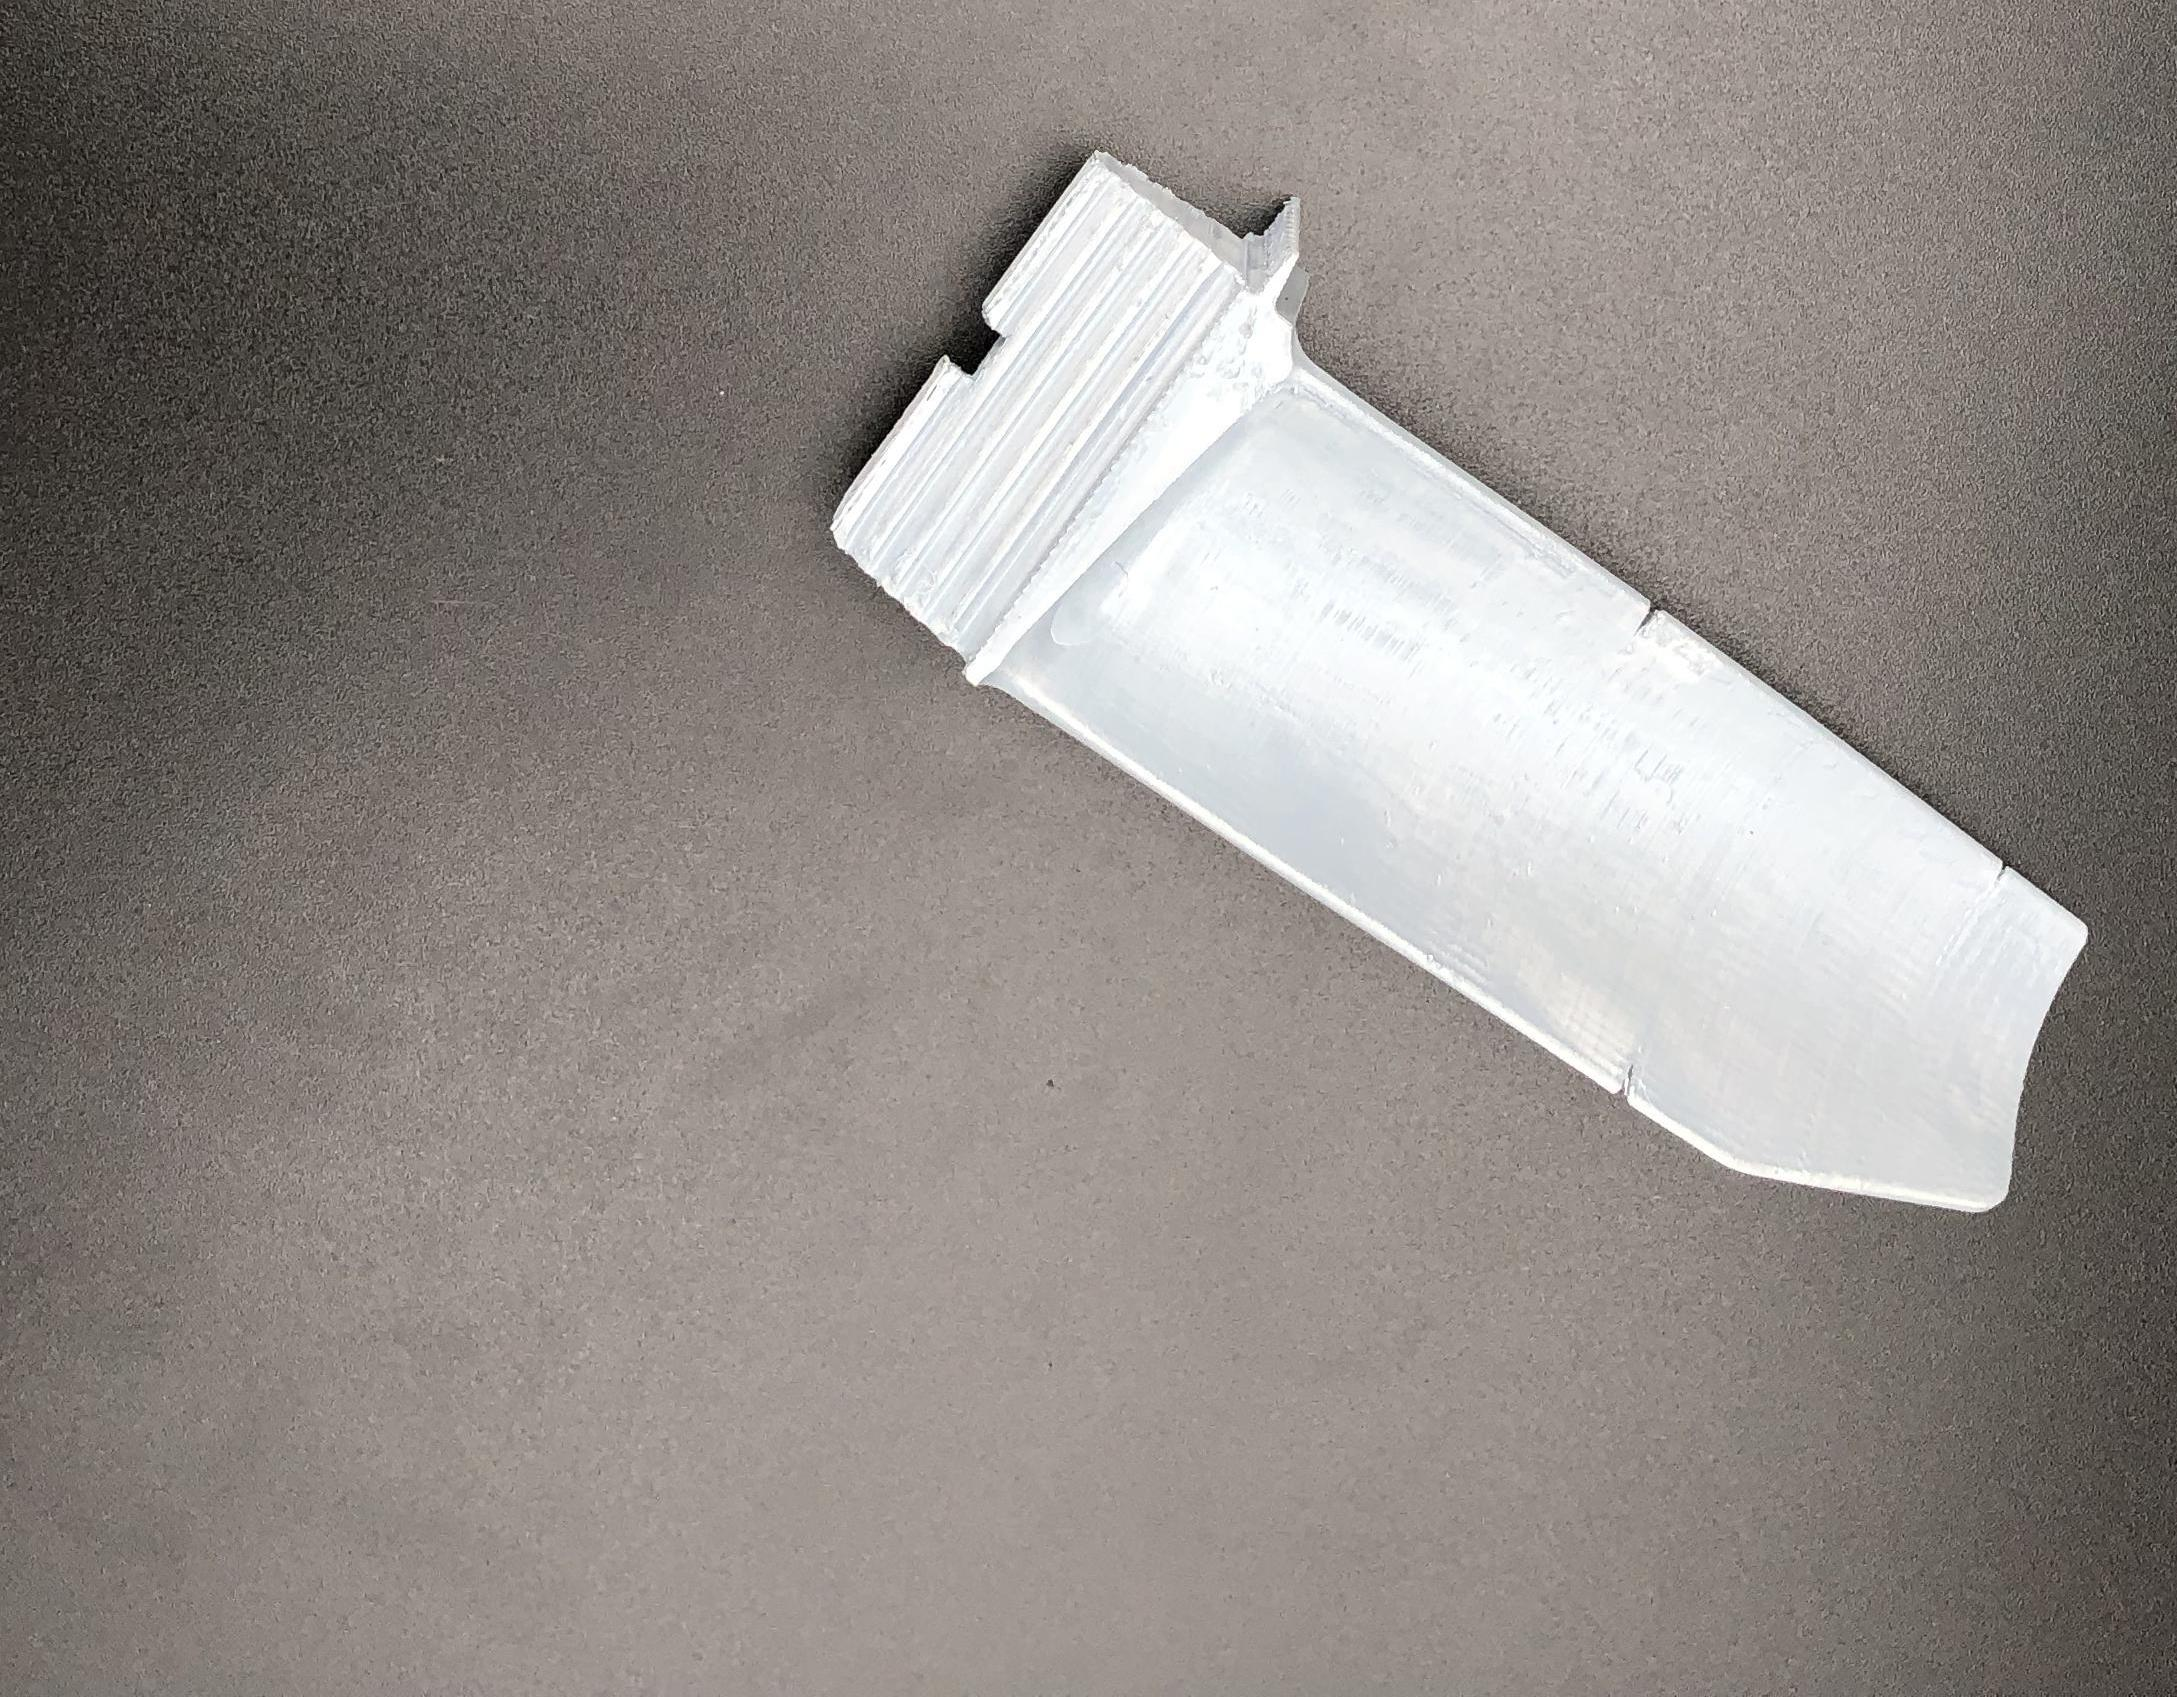groove: (1601, 1048, 1656, 1110), (1629, 592, 1684, 649), (1984, 848, 2021, 896)
